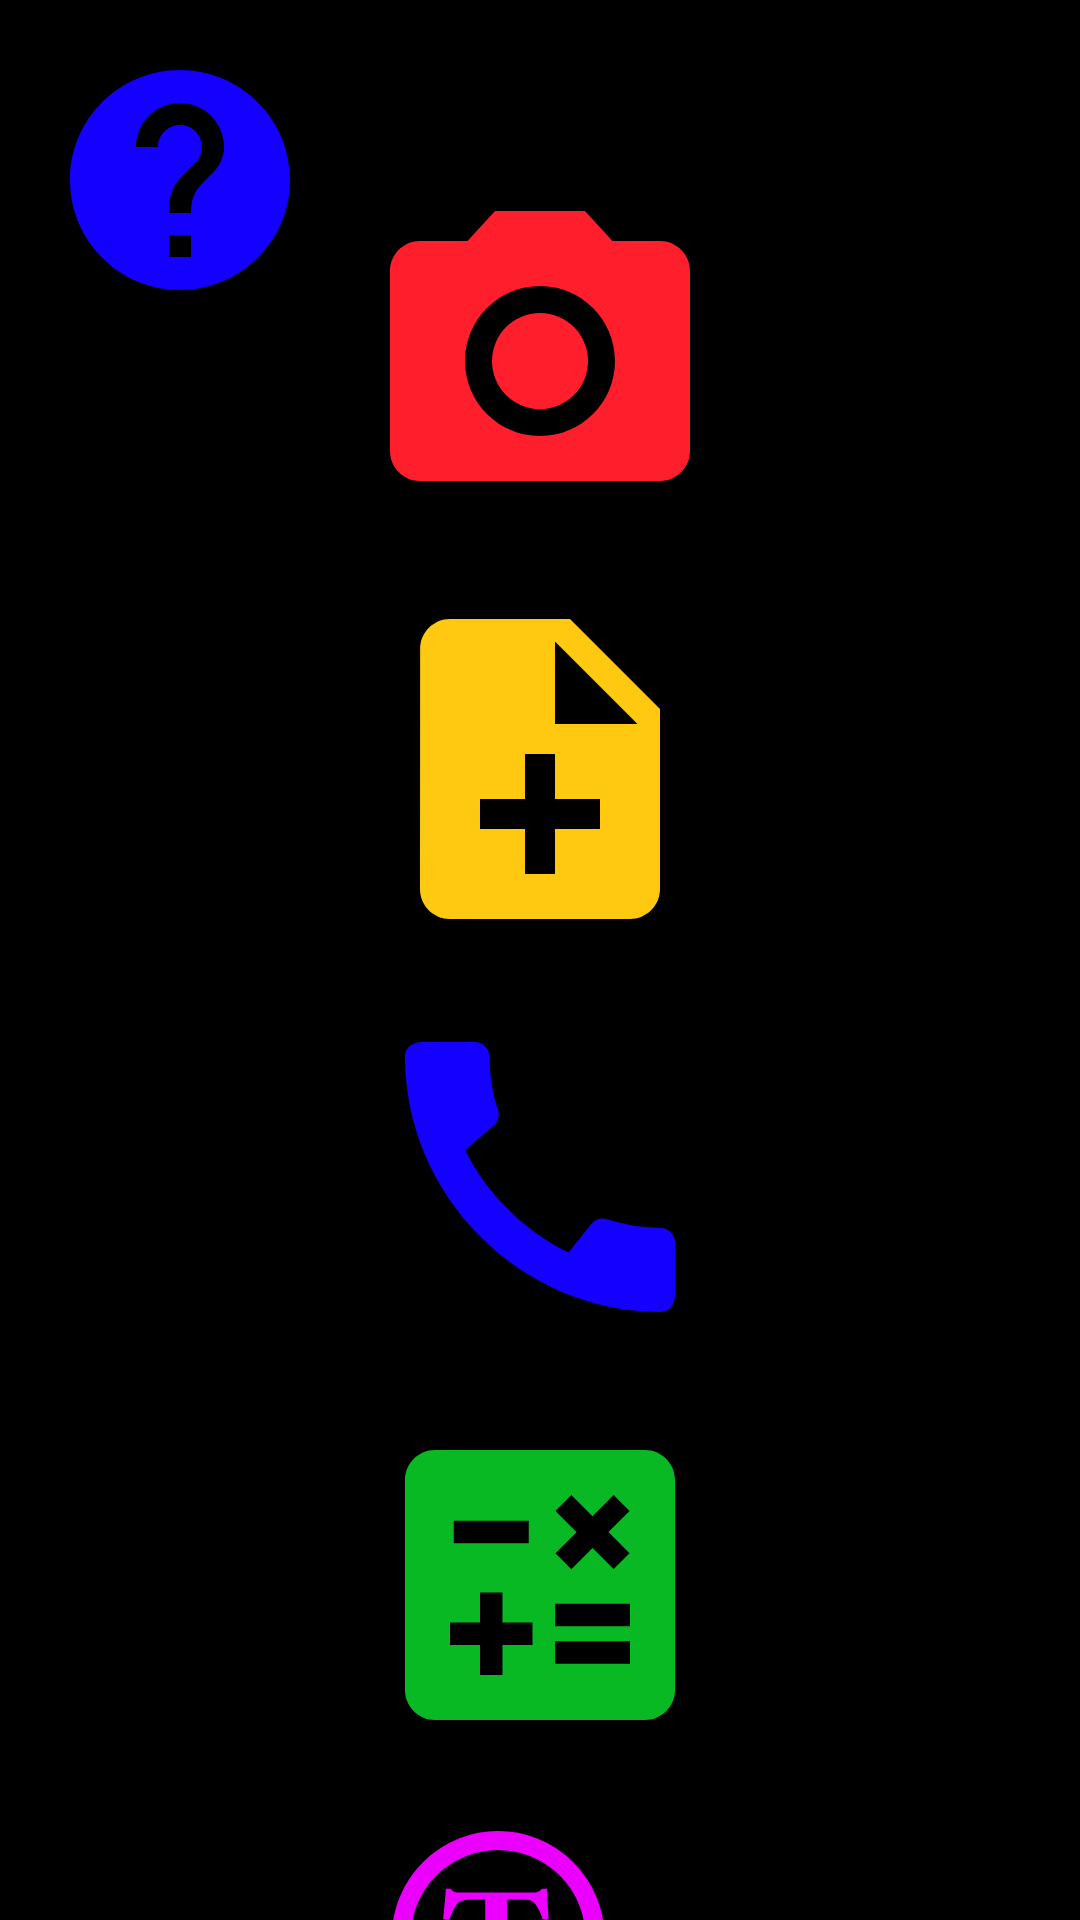

Locate icon controls on the screen. Image size 1080x1920, boxes as (x1, y1, x2, y2).
calculator: (405, 1450, 675, 1720)
camera: (390, 211, 690, 481)
helper: (69, 70, 290, 290)
note: (420, 619, 660, 919)
phone: (405, 1042, 675, 1312)
